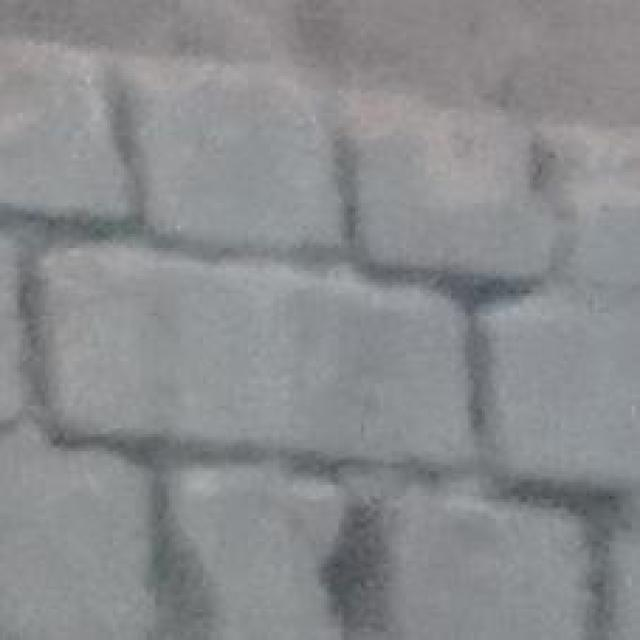Crack: (99, 359, 640, 640)
